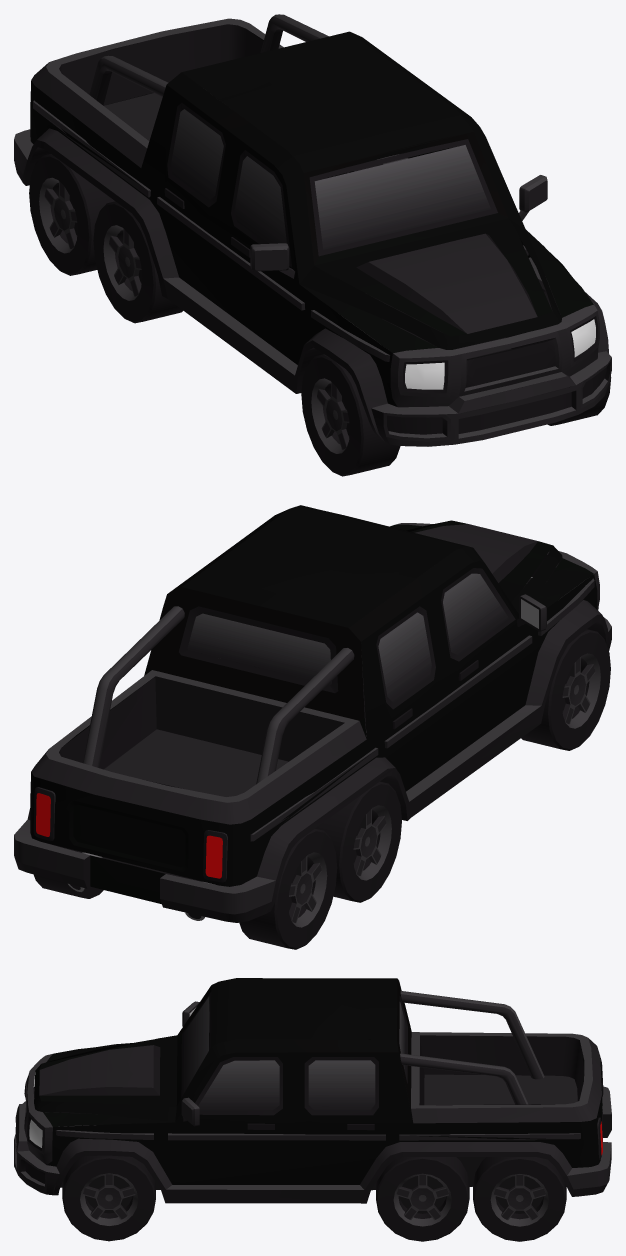
File: Car3.glb
3 renders of one model, top to bottom at view 1: azimuth 30°, elevation 25°; view 2: azimuth 150°, elevation 25°; view 3: azimuth 270°, elevation 25°, orthographic. The views are drawn at different scales.
Visible parts, largest first — view 1: unityexport_ColorVar3_Material_0.005; view 2: unityexport_ColorVar3_Material_0.005; view 3: unityexport_ColorVar3_Material_0.005.
Part boxes in pixels (x1,y1,x2,y2): unityexport_ColorVar3_Material_0.005: [14, 14, 611, 476]; unityexport_ColorVar3_Material_0.005: [14, 505, 611, 949]; unityexport_ColorVar3_Material_0.005: [14, 978, 611, 1241].
Bounding box in the file's own units: 22.54 × 18.32 × 52.75.
Materials: 3 (3 with a texture image).
